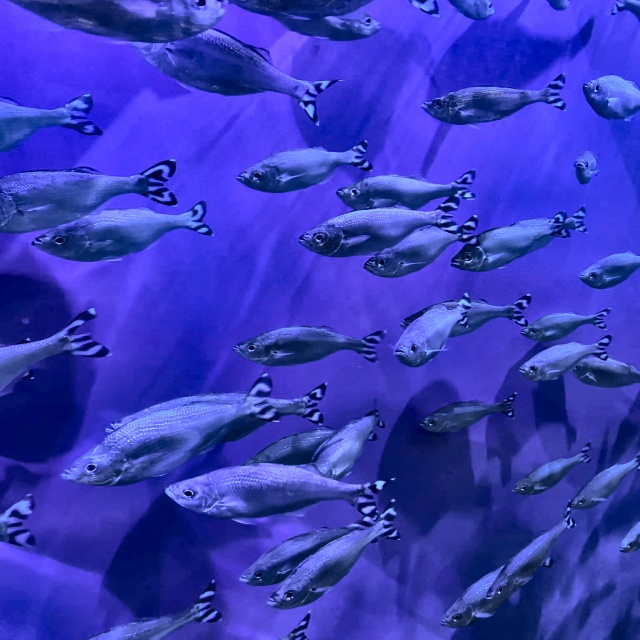fish: (60, 369, 329, 488), (140, 20, 341, 128), (437, 502, 585, 636), (258, 494, 408, 617), (237, 490, 395, 597), (155, 463, 410, 524), (0, 157, 183, 239), (28, 200, 218, 263), (397, 289, 534, 372), (298, 197, 465, 262), (0, 1, 230, 47), (0, 306, 111, 398), (358, 212, 481, 283), (447, 210, 570, 278), (419, 71, 571, 126), (84, 581, 226, 639), (235, 137, 376, 195), (232, 322, 385, 372), (330, 169, 480, 218), (0, 88, 104, 153), (411, 388, 526, 446), (316, 405, 386, 480), (246, 7, 387, 42), (515, 440, 593, 502), (568, 452, 639, 518), (510, 333, 614, 376), (518, 304, 615, 343), (581, 71, 639, 126), (505, 206, 589, 243), (0, 492, 44, 548), (581, 250, 639, 290), (574, 355, 639, 386), (571, 148, 604, 188), (445, 0, 495, 20), (619, 516, 639, 557), (612, 0, 639, 24)
